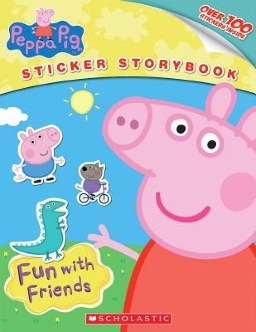Peppa: (87, 80, 256, 331)
